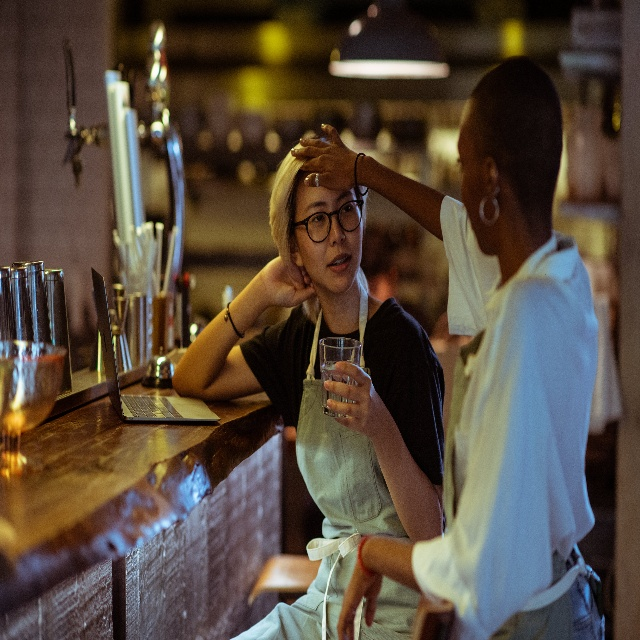Gafas: (288, 200, 363, 247)
Sin_guantes: (336, 534, 390, 639), (322, 358, 388, 441), (292, 123, 366, 191), (259, 255, 316, 306)
